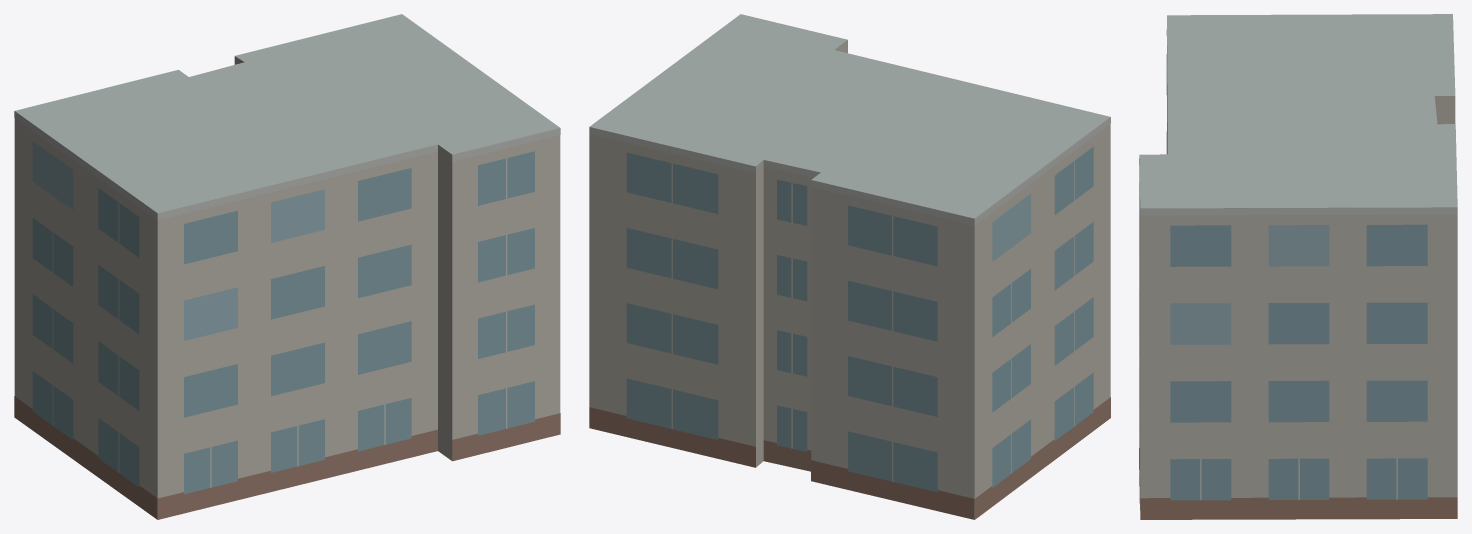
Rendered from survey-upis-32532716.glb.
3 renders of one model, left to right at view 1: azimuth 30°, elevation 25°; view 2: azimuth 150°, elevation 25°; view 3: azimuth 270°, elevation 25°, orthographic. The views are drawn at different scales.
Parts seen in each view (by area): view 1: survey-upis-32532716.tmp; view 2: survey-upis-32532716.tmp; view 3: survey-upis-32532716.tmp.
Part boxes in pixels (bbox=[...]): survey-upis-32532716.tmp: bbox=[14, 14, 560, 519]; survey-upis-32532716.tmp: bbox=[589, 14, 1110, 519]; survey-upis-32532716.tmp: bbox=[1139, 14, 1457, 519].
Bounding box in the file's own units: 14.13 × 10.55 × 9.79.
